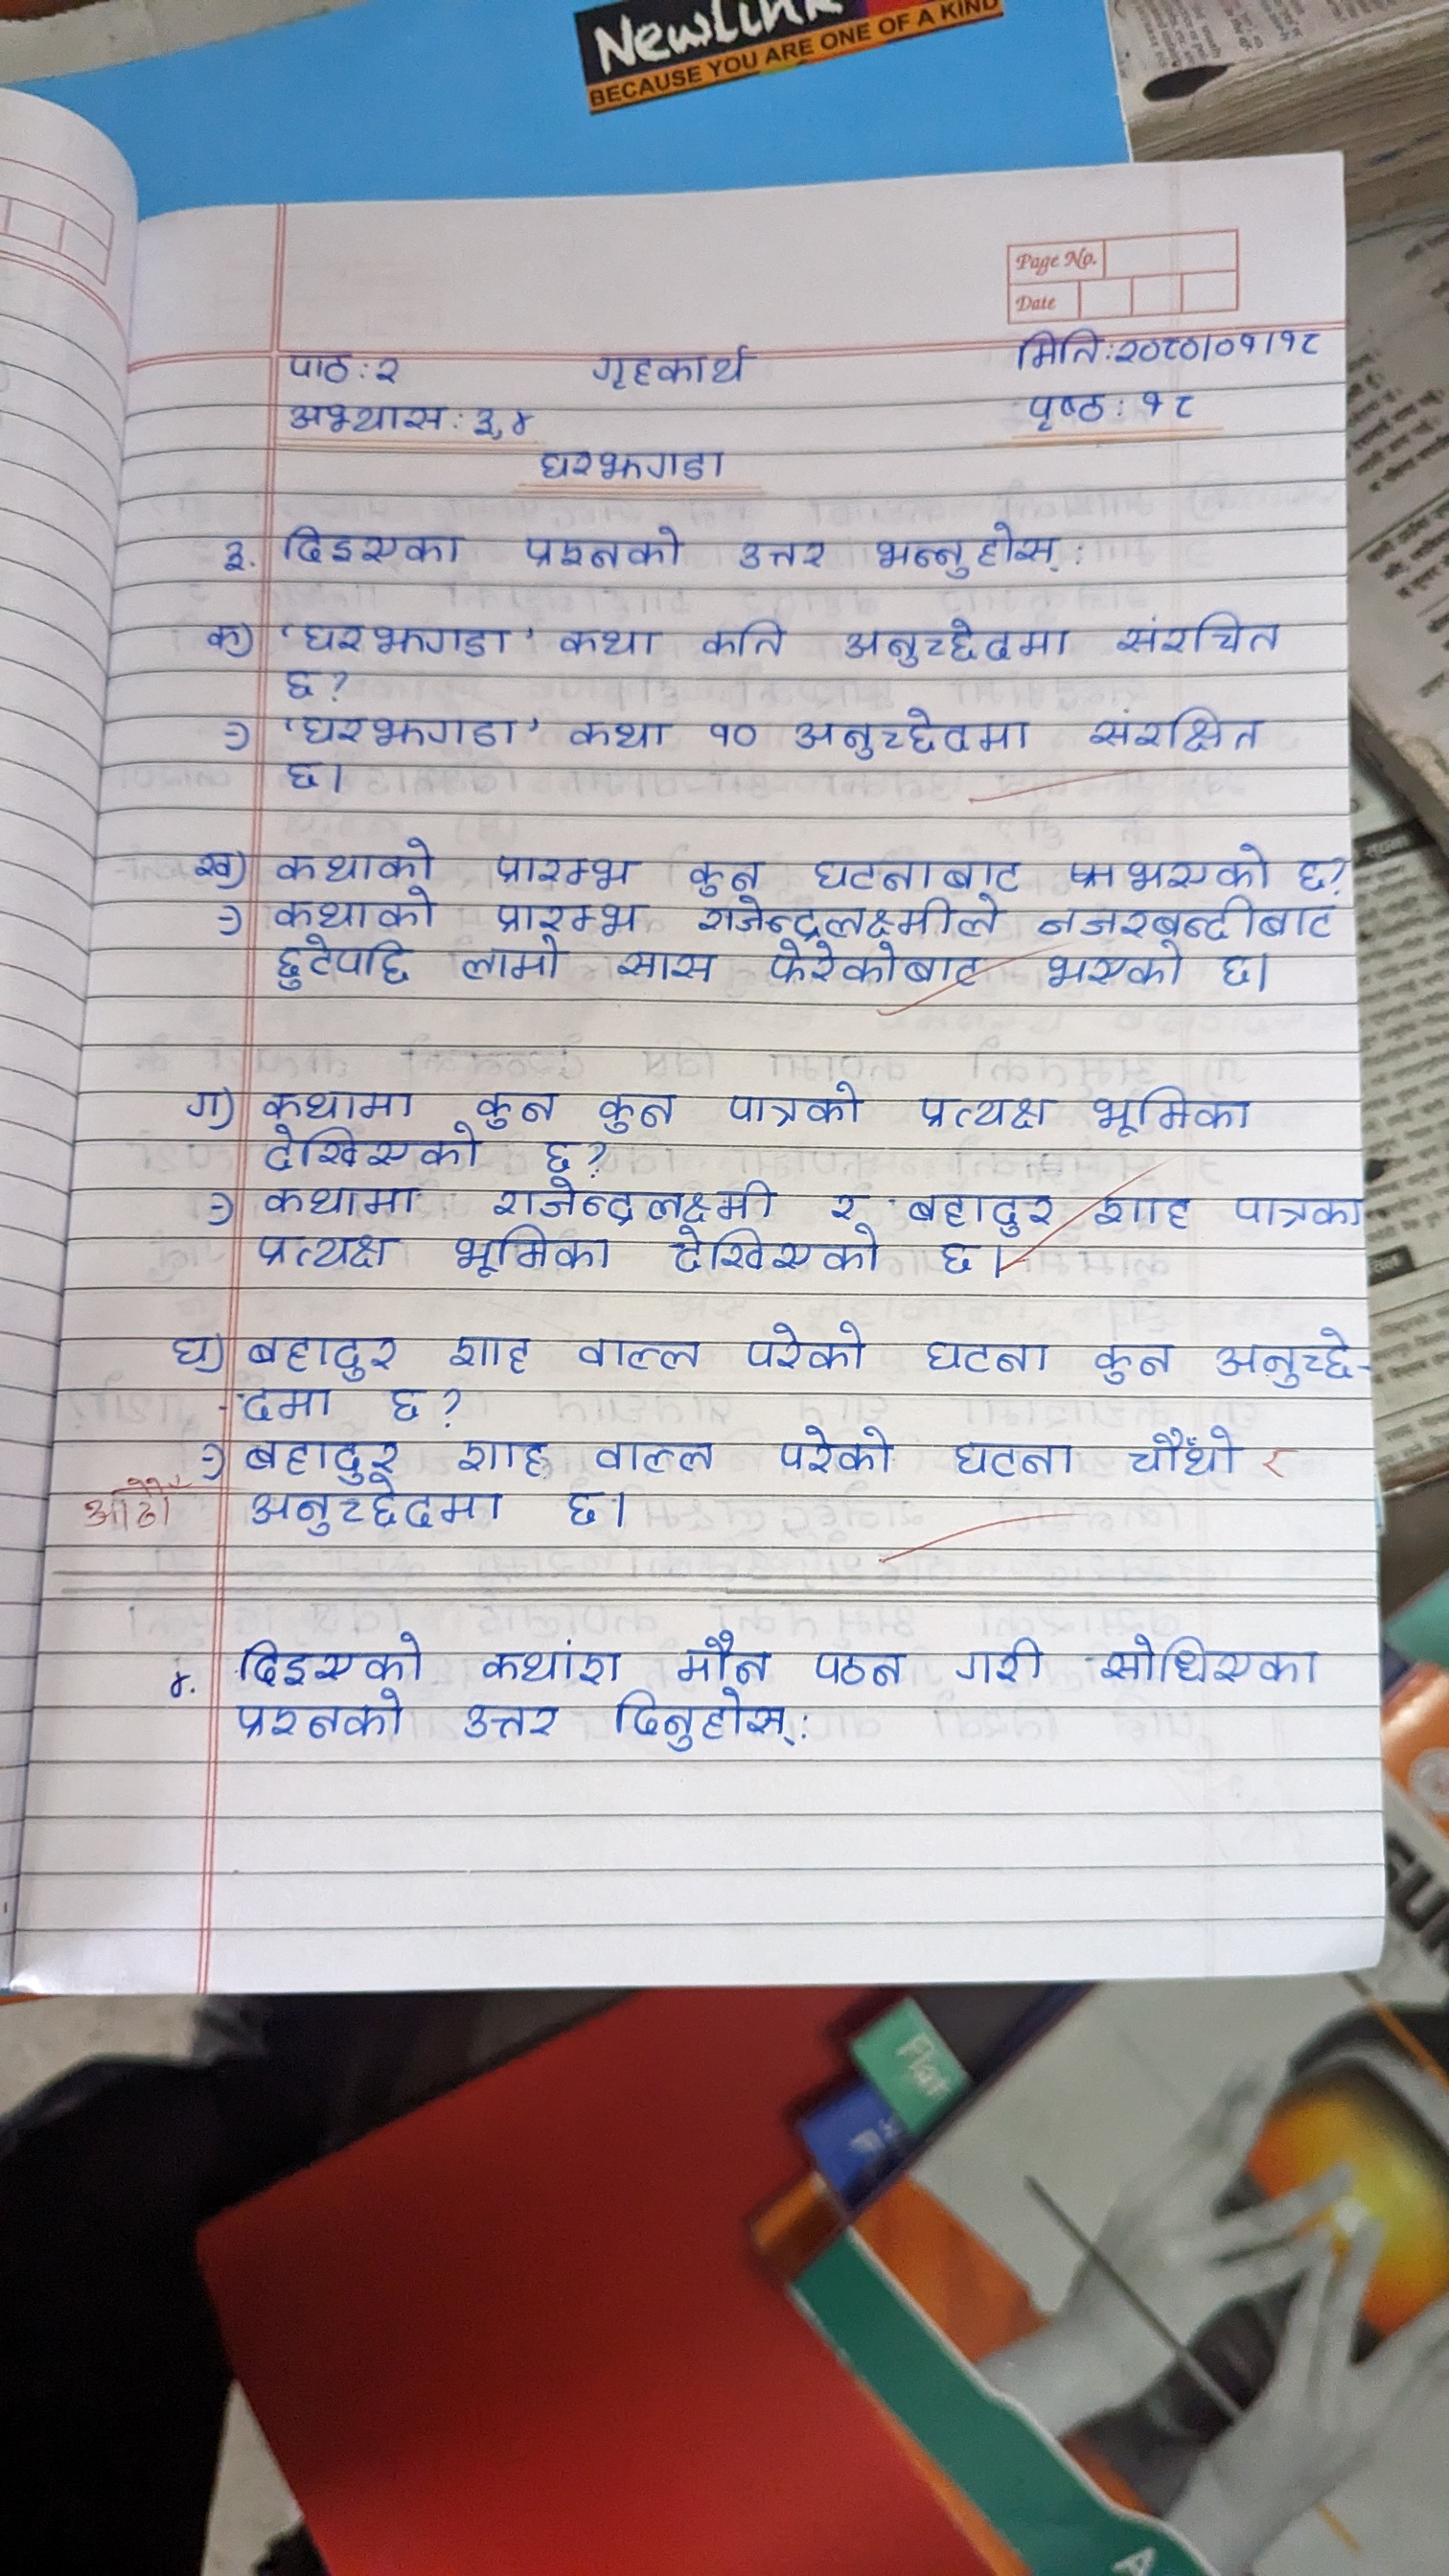text: (1092, 1629, 1330, 1693), (248, 1483, 504, 1539), (1030, 895, 1338, 939), (784, 708, 1031, 763), (692, 895, 996, 939), (833, 614, 1074, 669), (490, 1177, 777, 1223), (761, 941, 991, 994), (1079, 699, 1267, 763), (577, 331, 768, 393), (232, 1624, 423, 1686), (607, 1693, 798, 1753), (862, 524, 1069, 579), (274, 517, 469, 573), (658, 1228, 879, 1277), (262, 1125, 479, 1175), (297, 704, 522, 750), (294, 614, 511, 660), (504, 522, 690, 575), (1210, 1323, 1355, 1391), (269, 833, 453, 885), (1115, 609, 1286, 663), (444, 1224, 616, 1279), (1088, 1086, 1253, 1139), (237, 1330, 407, 1382), (228, 1690, 407, 1737), (1123, 835, 1267, 892), (902, 1187, 1063, 1237), (731, 1315, 870, 1371), (271, 938, 414, 993), (538, 446, 718, 488), (803, 856, 1019, 892), (1040, 941, 1187, 993), (244, 1228, 400, 1274), (271, 890, 439, 932), (239, 1435, 400, 1479), (1115, 1424, 1242, 1479), (718, 1077, 862, 1125), (679, 1621, 778, 1690), (85, 1474, 198, 1534), (258, 1079, 418, 1122), (481, 1640, 626, 1686), (283, 398, 444, 439), (559, 1329, 704, 1373), (945, 1624, 1047, 1686), (258, 1182, 425, 1219), (495, 849, 642, 890), (1230, 1189, 1364, 1233), (939, 1438, 1079, 1481), (488, 899, 648, 936), (916, 1090, 1049, 1134), (770, 1424, 892, 1472), (453, 1695, 571, 1743), (920, 1330, 1042, 1376), (594, 1428, 717, 1474), (563, 708, 676, 755), (727, 524, 832, 575), (1016, 386, 1113, 439), (456, 939, 570, 984), (1007, 322, 1100, 375), (810, 1644, 916, 1690), (607, 948, 731, 987), (1092, 1187, 1205, 1230), (444, 1320, 531, 1375), (697, 612, 789, 660), (455, 1433, 548, 1479), (554, 626, 669, 663), (1090, 1336, 1175, 1385), (237, 1385, 336, 1428), (271, 343, 361, 387), (472, 1085, 564, 1123), (594, 1088, 681, 1129), (177, 1069, 228, 1127), (1111, 334, 1203, 364), (697, 711, 757, 757), (554, 1484, 609, 1532), (163, 1327, 219, 1373), (686, 858, 763, 892), (212, 520, 255, 580), (202, 610, 253, 658), (1136, 389, 1203, 425), (280, 754, 327, 796), (1272, 320, 1325, 357), (1254, 1440, 1299, 1484), (938, 1238, 984, 1281), (161, 1651, 196, 1706), (379, 1385, 425, 1421), (1215, 329, 1263, 363), (191, 847, 237, 881), (1292, 851, 1327, 893), (1210, 948, 1253, 984), (467, 387, 494, 442), (372, 345, 407, 384), (280, 663, 318, 697), (538, 1134, 573, 1169), (826, 1187, 862, 1223), (508, 398, 534, 435)
